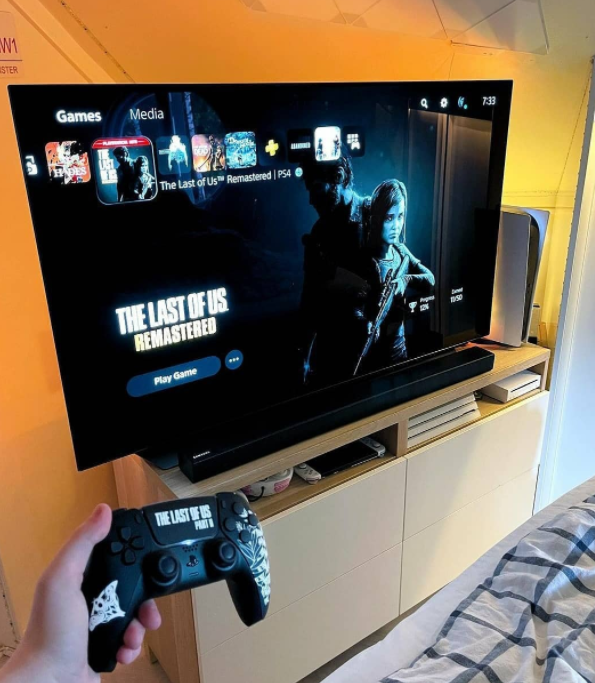gamingconsole: (80, 494, 275, 669)
